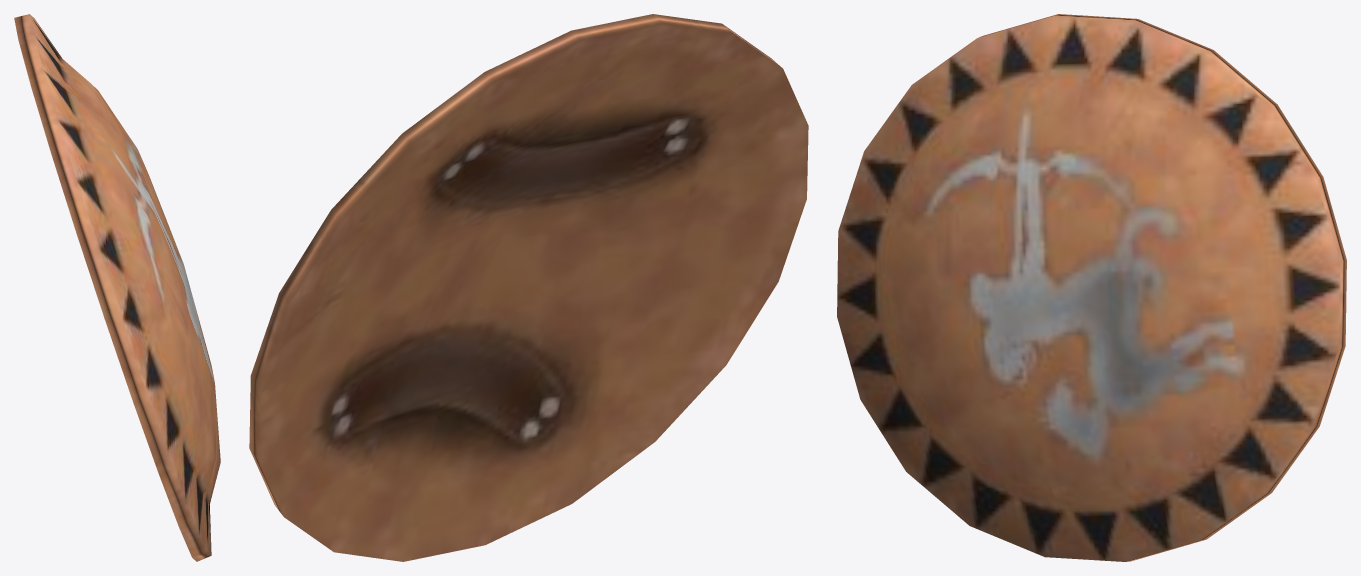
The model's file is shield-bronzeshields.glb.
3 renders of one model, left to right at view 1: azimuth 30°, elevation 25°; view 2: azimuth 150°, elevation 25°; view 3: azimuth 270°, elevation 25°, orthographic. The views are drawn at different scales.
Size of the model in its own units: 0.2462 by 0.4622 by 0.4442.
Materials: 1 (1 with a texture image).
